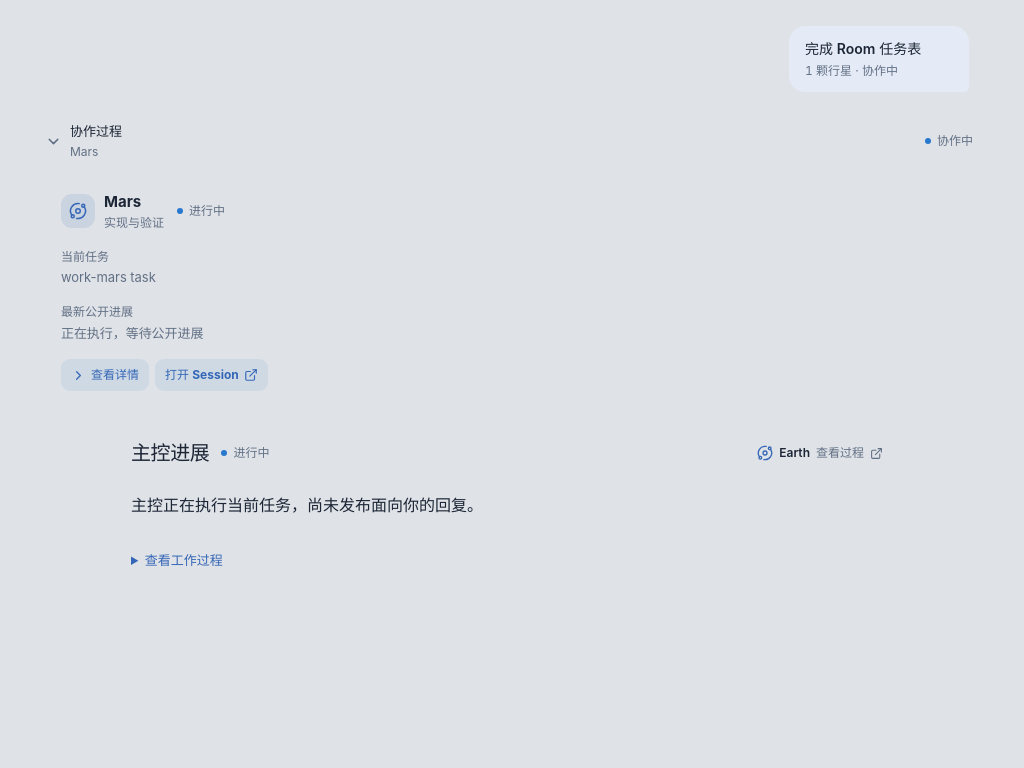
Scenario: PawRoomRoundSheet (UR-170/172) › keeps a real reasoning event in expandable progress instead of a coordinator report
Expected: the message reads "进行中", x1=233 y1=445 x2=269 y2=460
Expected: the text "Planning test seam without browser" is not shown
What coordinates should you click on to do the following:
click the heading "查看工作过程"
I would click on:
 (184, 560)
Its box is x1=145 y1=552 x2=223 y2=568.
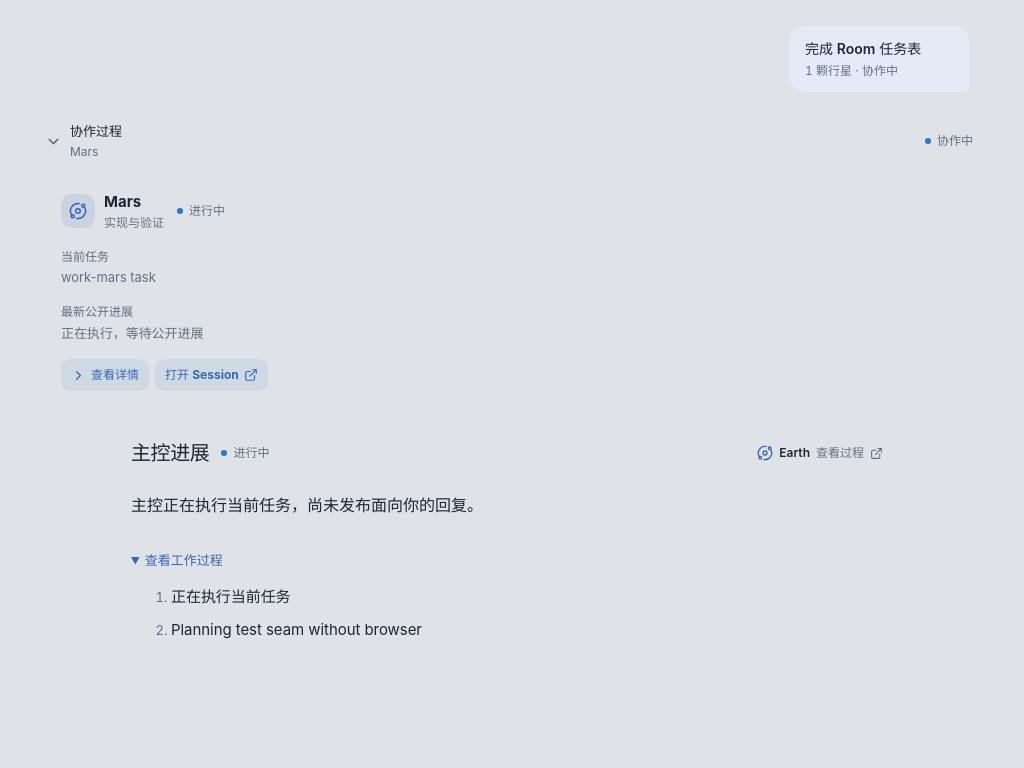
Expected: the text "Planning test seam without browser" is shown, x1=171 y1=620 x2=422 y2=639
